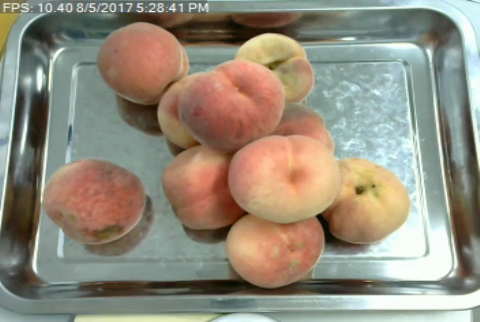Peach: (231, 135, 341, 222), (42, 158, 146, 245), (181, 61, 284, 146), (315, 155, 411, 245), (98, 20, 187, 108), (224, 212, 325, 288), (162, 141, 245, 230), (231, 35, 315, 107)
